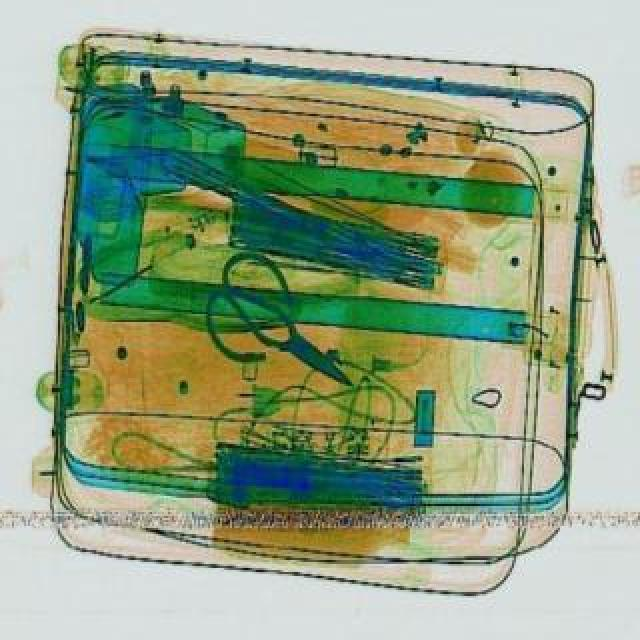pliers: (178, 244, 390, 428)
